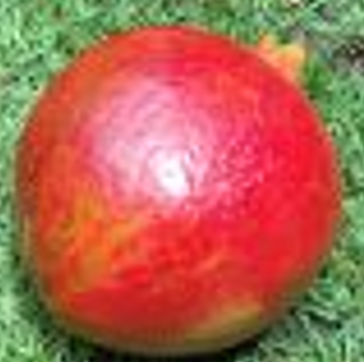pomegranate_A: (14, 24, 343, 356)
